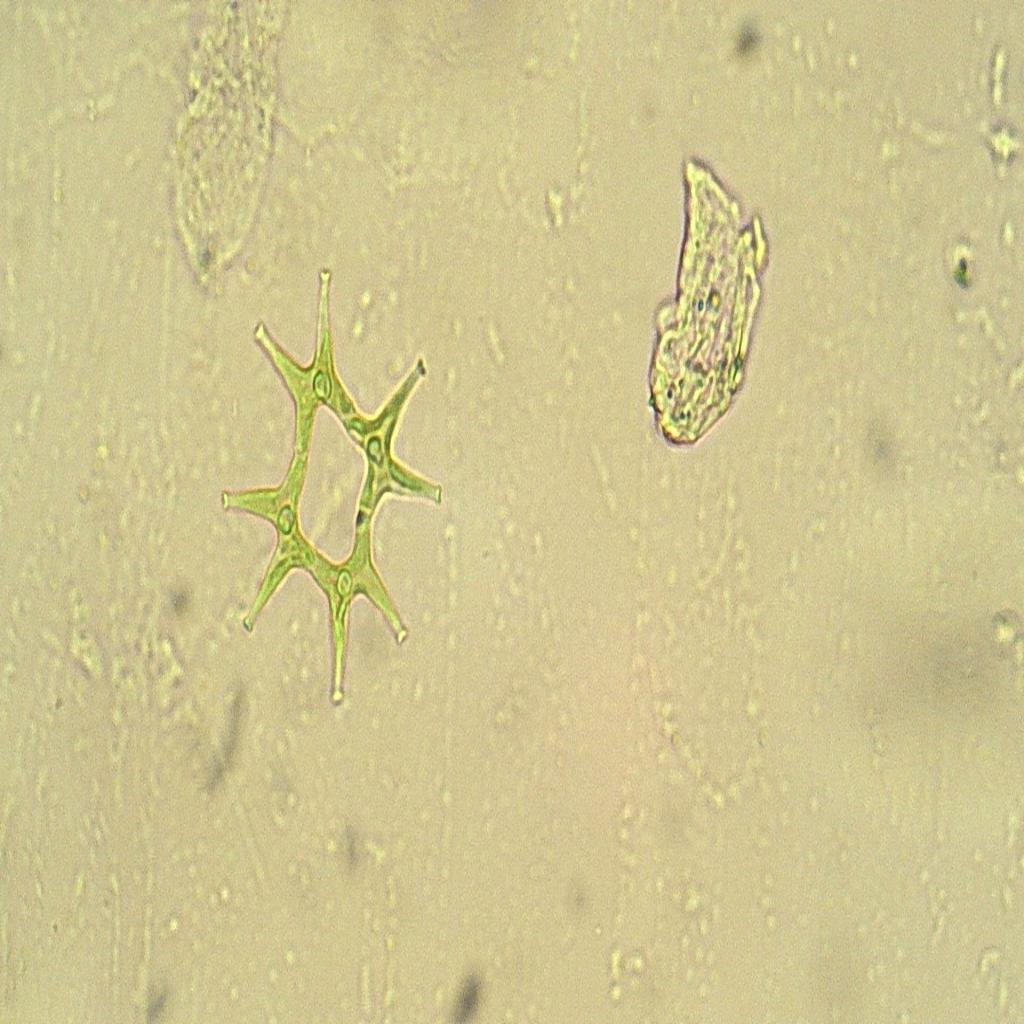Pediastrum_10: (206, 248, 450, 739)
